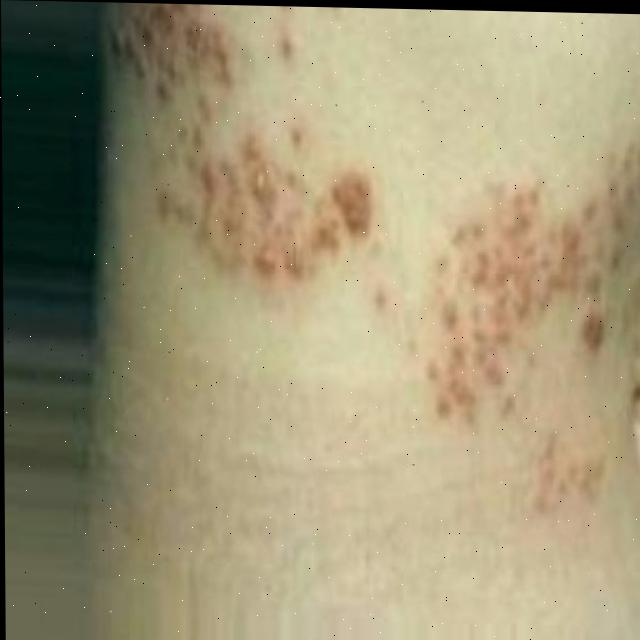Shingles: (404, 95, 640, 518), (107, 2, 388, 299)
